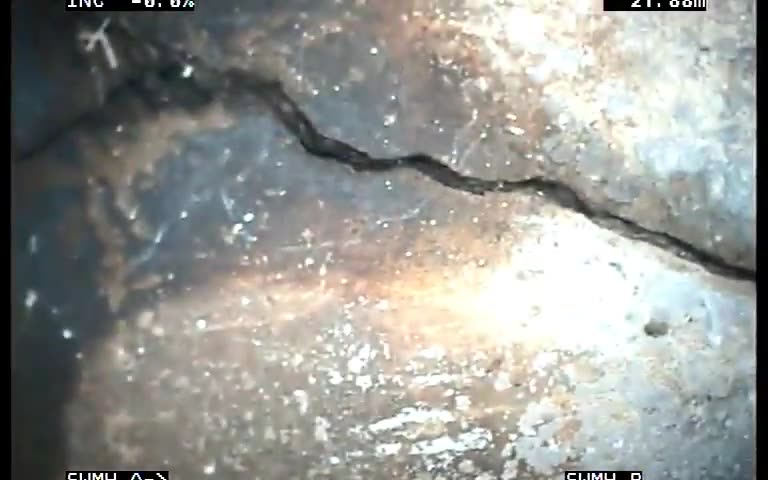Crack: (14, 16, 762, 298)
